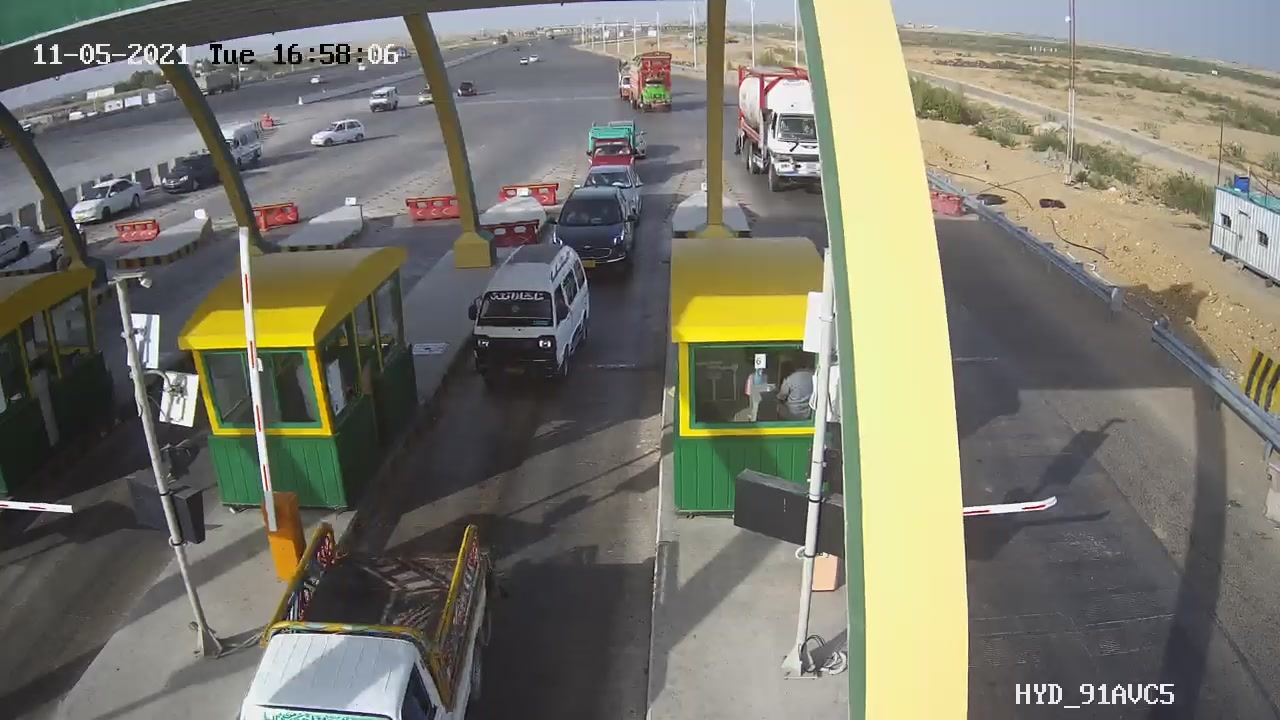F1: (457, 228, 603, 403), (529, 176, 650, 290)
